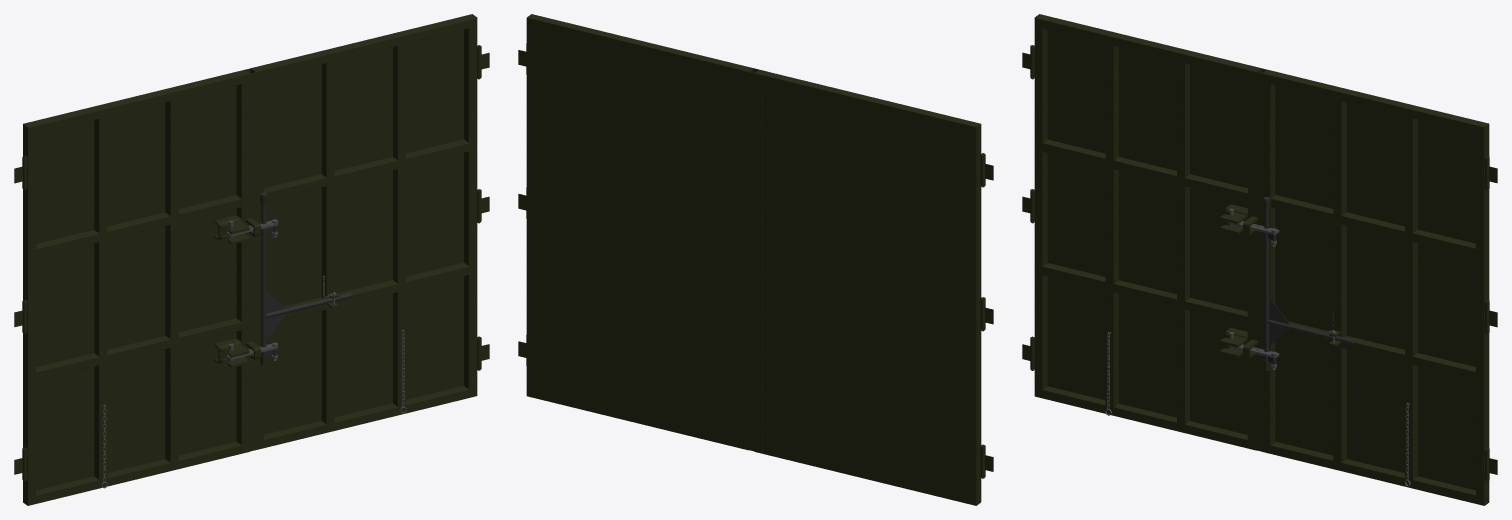
File: door.glb
3 renders of one model, left to right at view 1: azimuth 30°, elevation 25°; view 2: azimuth 150°, elevation 25°; view 3: azimuth 330°, elevation 25°, orthographic.
Parts seen in each view (by area): view 1: dreapta, stanga, maner, BALAMA FIX.003, DRUG.003; view 2: stanga, dreapta, BALAMA FIX.003; view 3: dreapta, stanga, maner, BALAMA FIX.003, DRUG.003.
Part boxes in pixels (x1=…): dreapta: x1=241, y1=14, x2=481, y2=453; stanga: x1=22, y1=68, x2=250, y2=505; maner: x1=260, y1=192, x2=351, y2=366; BALAMA FIX.003: x1=14, y1=53, x2=489, y2=474; DRUG.003: x1=227, y1=219, x2=277, y2=367; stanga: x1=740, y1=69, x2=985, y2=505; dreapta: x1=526, y1=14, x2=761, y2=450; BALAMA FIX.003: x1=518, y1=50, x2=993, y2=471; dreapta: x1=1243, y1=69, x2=1489, y2=505; stanga: x1=1030, y1=14, x2=1266, y2=450; maner: x1=1263, y1=197, x2=1354, y2=370; BALAMA FIX.003: x1=1022, y1=52, x2=1497, y2=474; DRUG.003: x1=1227, y1=208, x2=1279, y2=370.
Bounding box in the file's own units: 3.36 × 2.56 × 0.1775.
7 materials, 6 textured.
